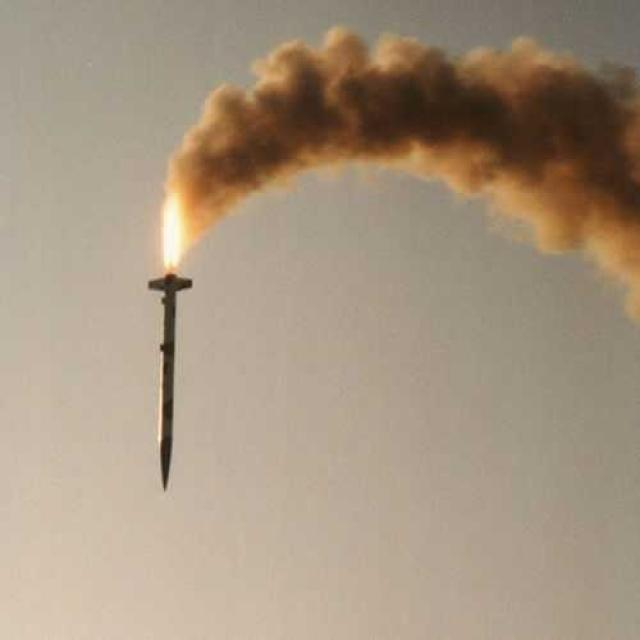missile: (146, 268, 194, 496)
